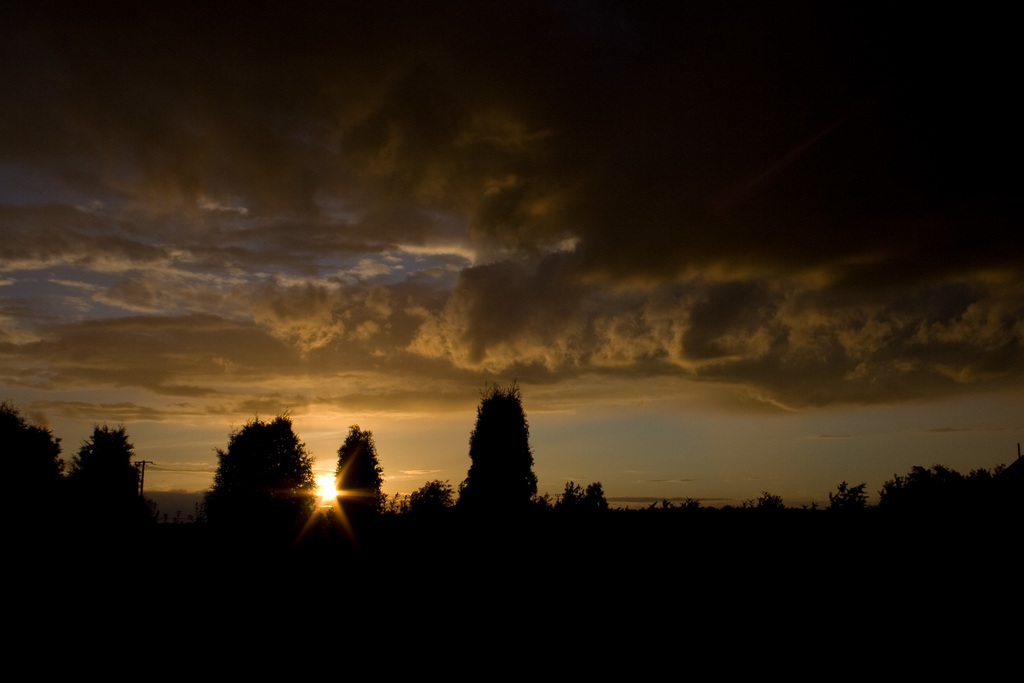Tree: (199, 411, 316, 521), (456, 376, 544, 506), (59, 421, 143, 513), (333, 425, 385, 527)
